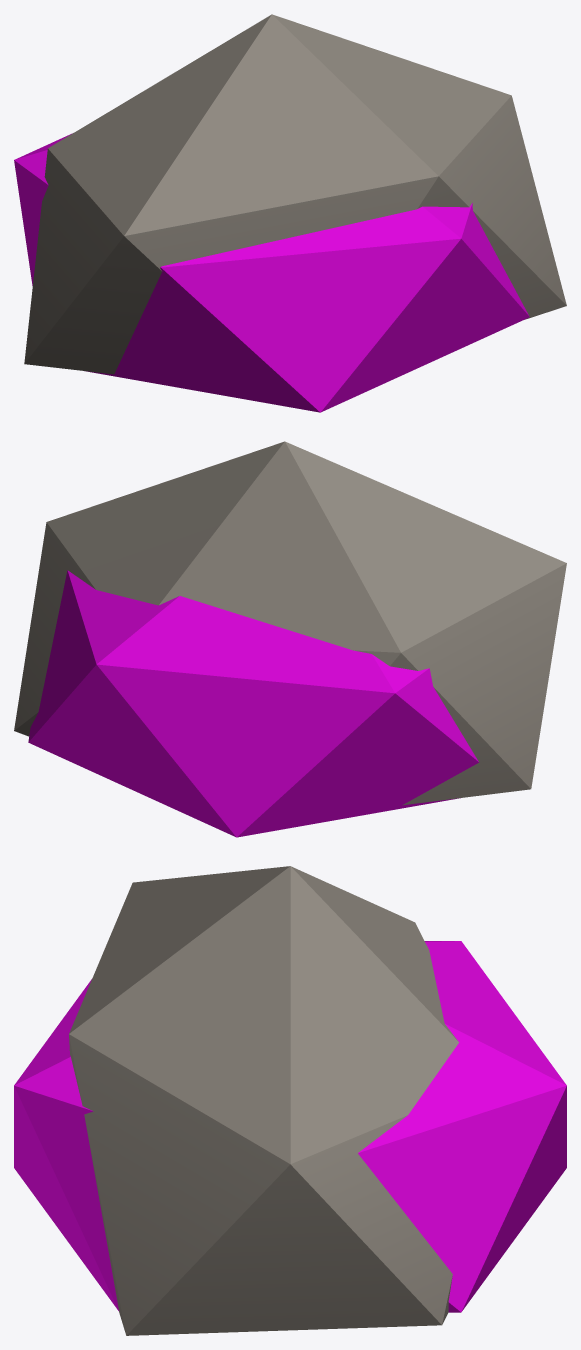
The model's file is rock_c.glb.
3 views of the same model, one above another, from view 1: azimuth 30°, elevation 25°; view 2: azimuth 150°, elevation 25°; view 3: azimuth 270°, elevation 25° (orthographic). The views are drawn at different scales.
Visible parts, largest first — view 1: rock_c, COL_rock_c; view 2: rock_c, COL_rock_c; view 3: rock_c, COL_rock_c.
Boxes of the visible parts, x1,y1,x2,y2 form: rock_c: (24, 14, 566, 374); COL_rock_c: (14, 133, 529, 412); rock_c: (14, 441, 566, 805); COL_rock_c: (28, 570, 478, 837); rock_c: (69, 866, 458, 1335); COL_rock_c: (14, 941, 566, 1312).
Bounding box in the file's own units: 4.57 × 3.41 × 3.87.
